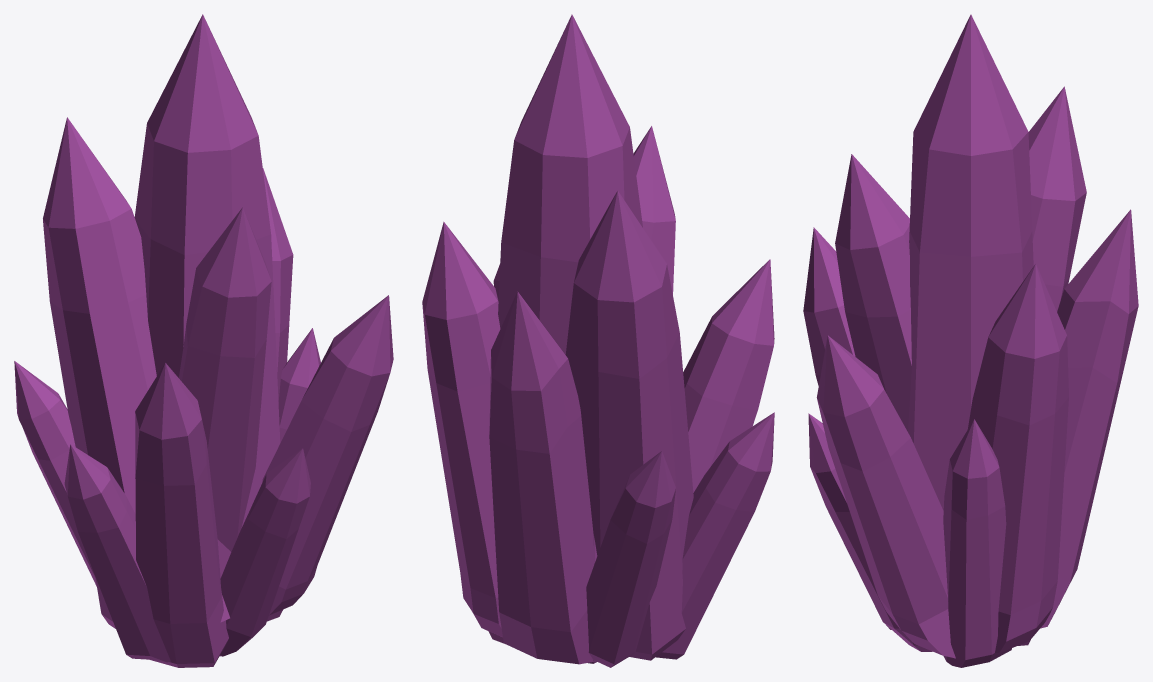
File: DenseCrystal.fbx
The picture shows the model from 3 angles, left to right: view 1: azimuth 30°, elevation 25°; view 2: azimuth 150°, elevation 25°; view 3: azimuth 270°, elevation 25°; orthographic projection. The views are drawn at different scales.
Parts seen in each view (by area): view 1: Cube; view 2: Cube; view 3: Cube.
Boxes of the visible parts, bbox=[...] form: Cube: bbox=[14, 14, 393, 667]; Cube: bbox=[422, 14, 774, 667]; Cube: bbox=[803, 14, 1138, 667].
Bounding box in the file's own units: 1.55 × 3.14 × 1.5.
